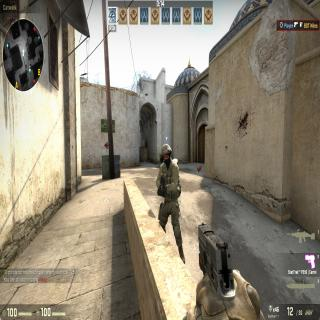CT-Body: (156, 142, 184, 260)
CT-Head: (159, 141, 171, 166)
